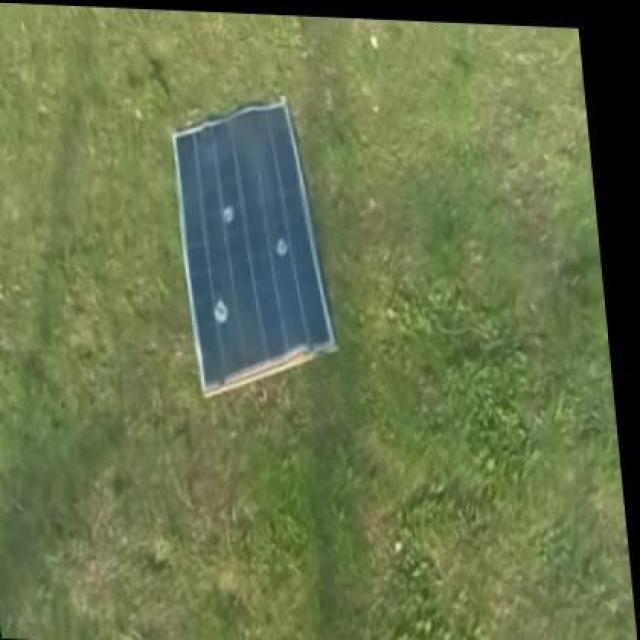soiled: (174, 97, 336, 400)
